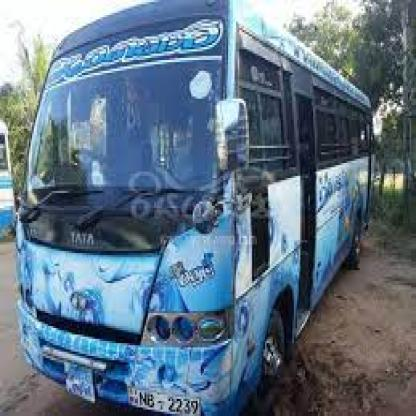bus front: (10, 0, 377, 416)
number plate: (136, 382, 200, 416)
